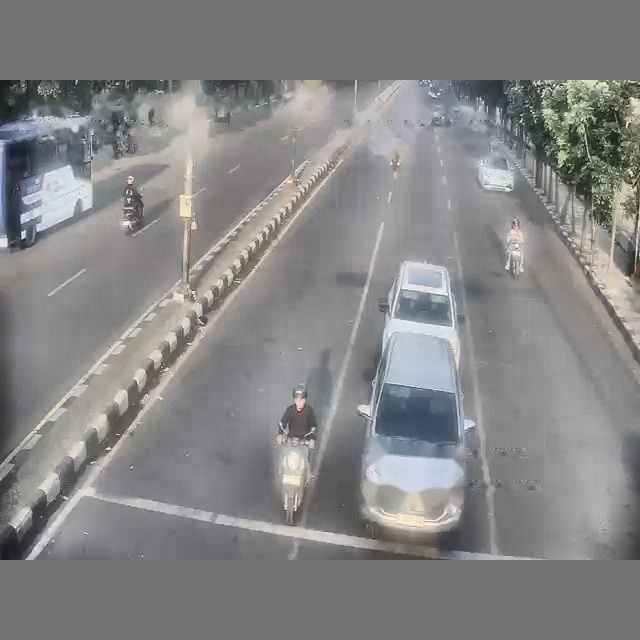Bis: (0, 116, 92, 248)
Mobil: (357, 333, 474, 536), (379, 261, 460, 365), (478, 153, 514, 192), (211, 105, 230, 124), (431, 110, 450, 126)
Motor: (276, 434, 310, 525), (121, 207, 143, 234), (509, 242, 522, 277)
